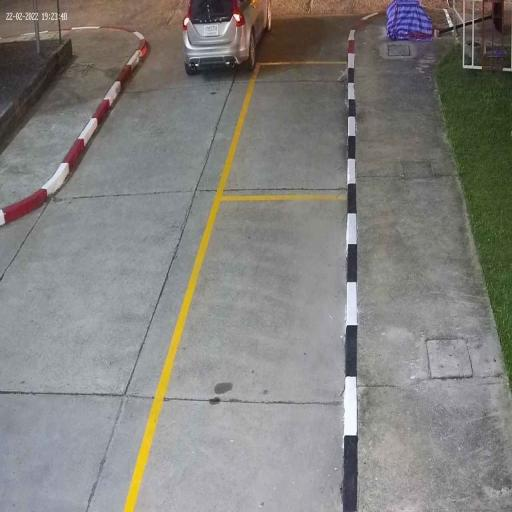car: (180, 0, 274, 76)
